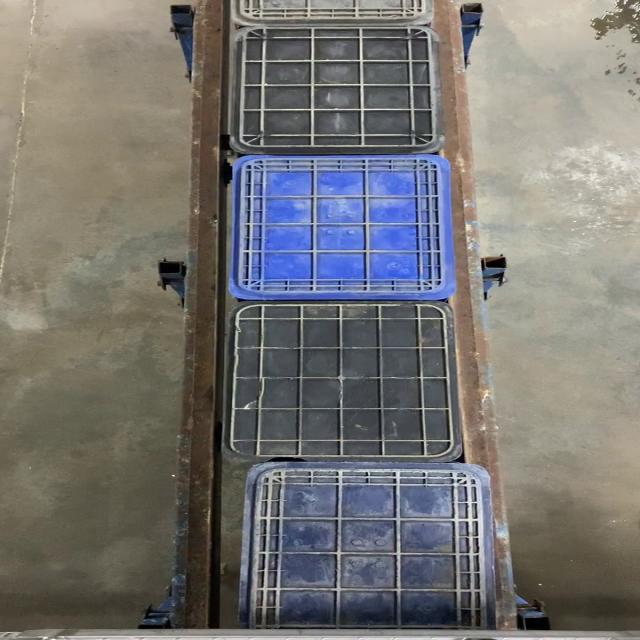Box: (227, 153, 458, 299), (226, 25, 444, 154)
Damaged_box: (223, 301, 468, 463)
